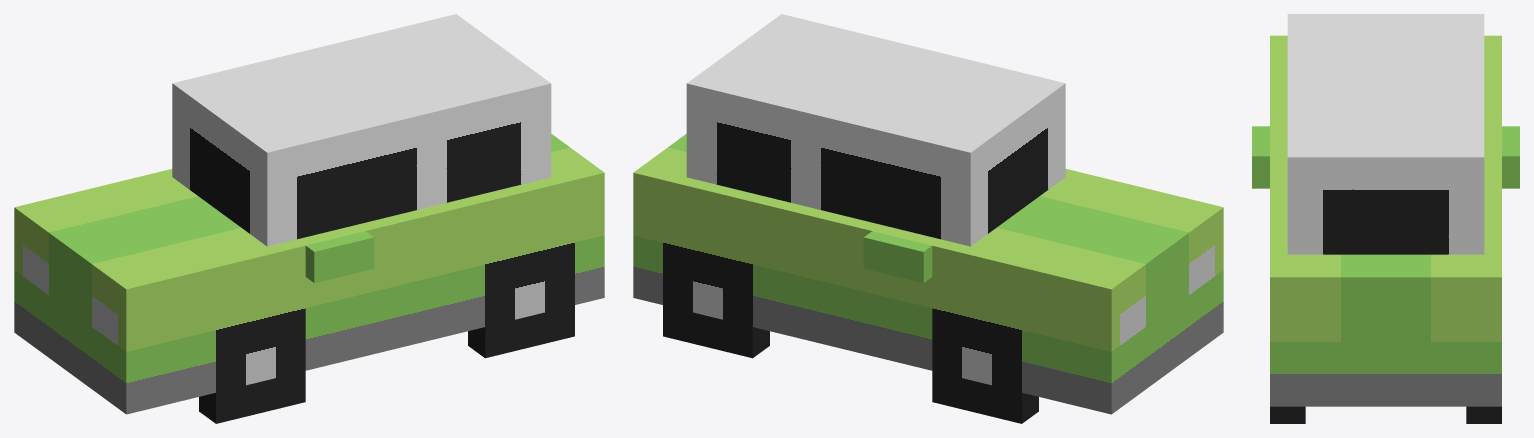
The model's file is veh_car_green.dae.
3 views of the same model, side by side, from view 1: azimuth 30°, elevation 25°; view 2: azimuth 150°, elevation 25°; view 3: azimuth 270°, elevation 25° (orthographic). The views are drawn at different scales.
Visible parts, largest first — view 1: veh_car_green; view 2: veh_car_green; view 3: veh_car_green.
Part boxes in pixels (x1,y1,x2,y2): veh_car_green: [14, 14, 604, 423]; veh_car_green: [633, 14, 1223, 423]; veh_car_green: [1252, 14, 1519, 423].
Bounding box in the file's own units: 3.2 × 1.6 × 1.5.
